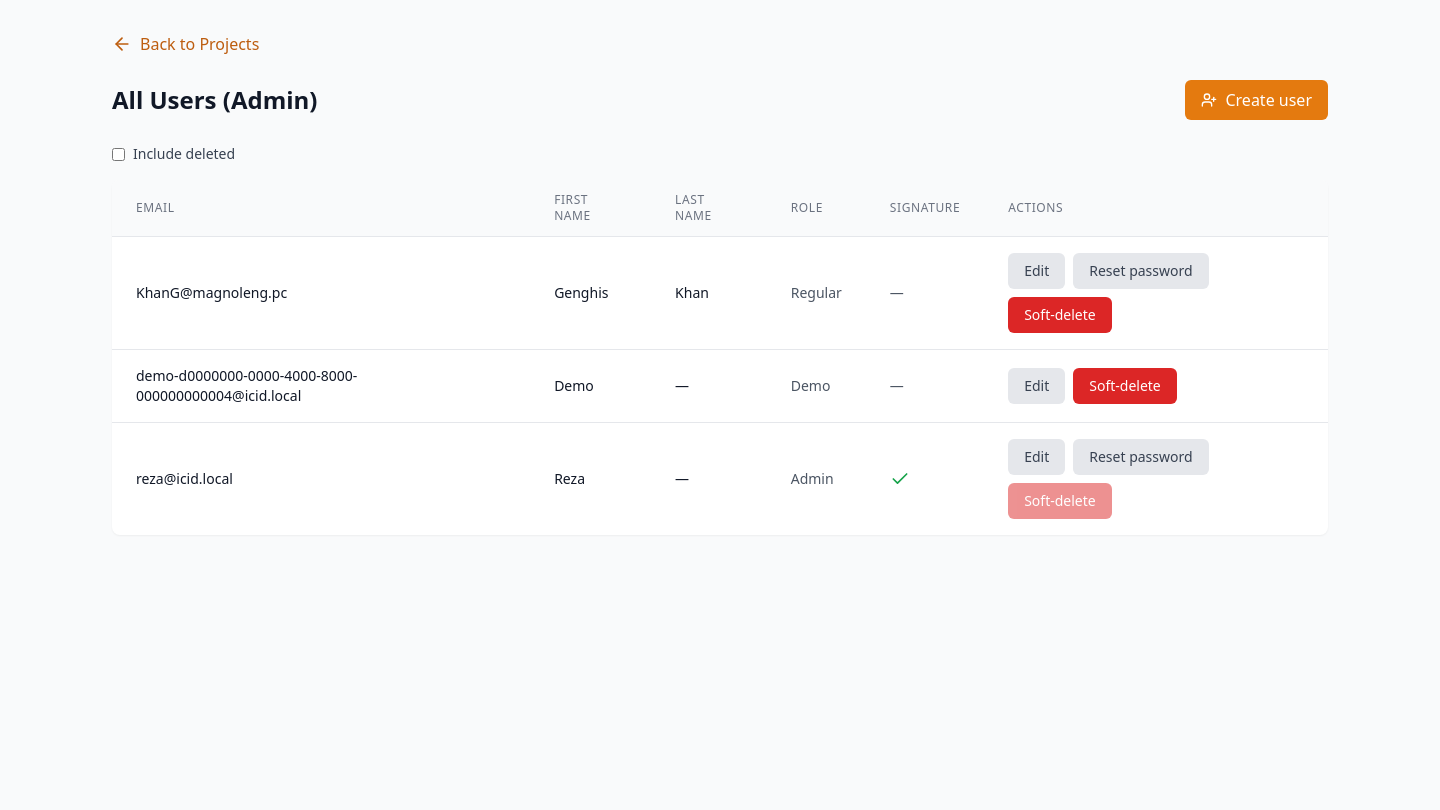
AdminUsersPage — editing a user › opens the dialog with that user's names filled in
The image size is (1440, 810).
Click the button "Edit" in the row of "KhanG@magnoleng.pc" at (1037, 271), box [1008,253,1065,289]
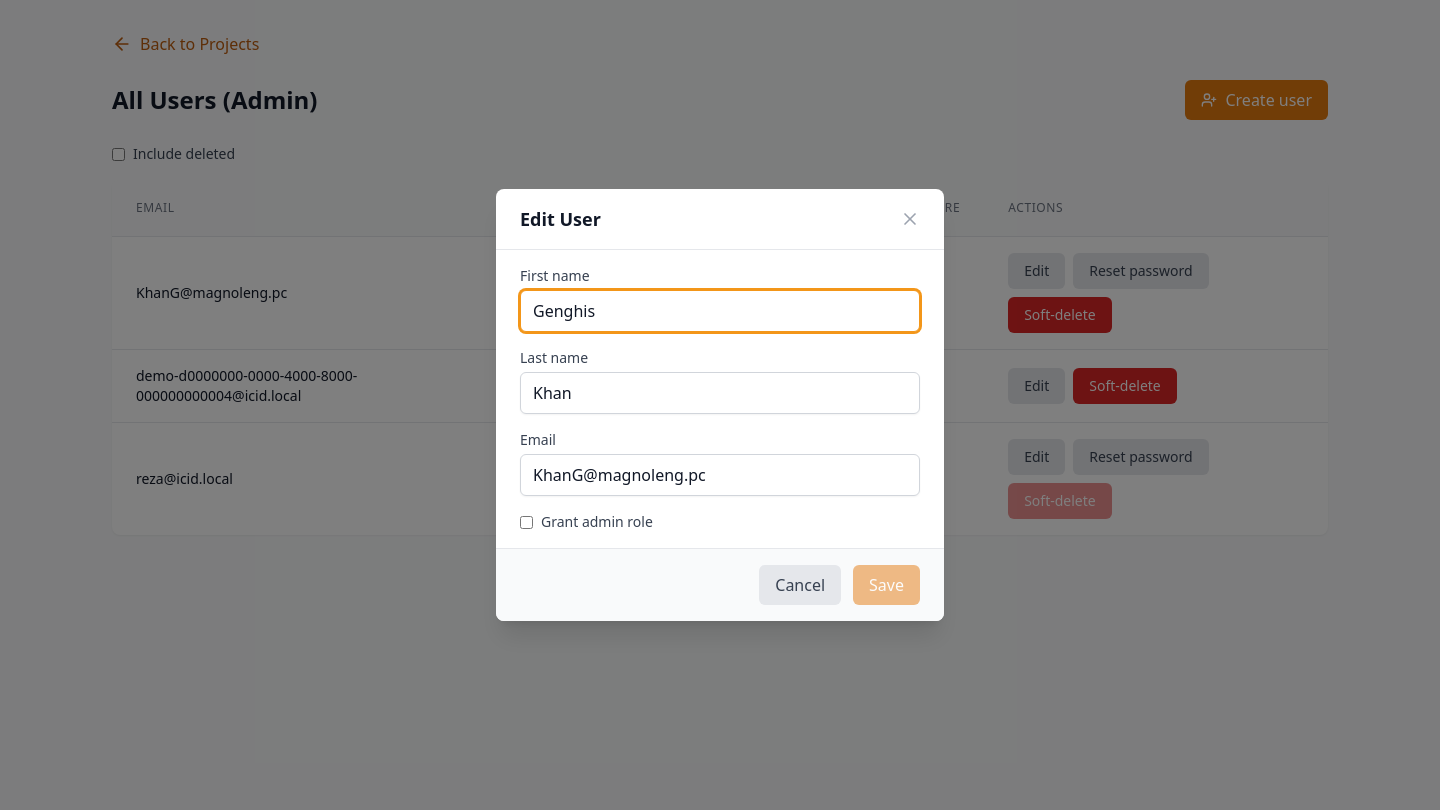
Result: the dialog "Edit User" is shown at [496,189,944,621]
Result: the field labelled "First name" holds "Genghis" at [520,290,920,332]
Result: the field labelled "Last name" holds "Khan" at [520,372,920,414]
